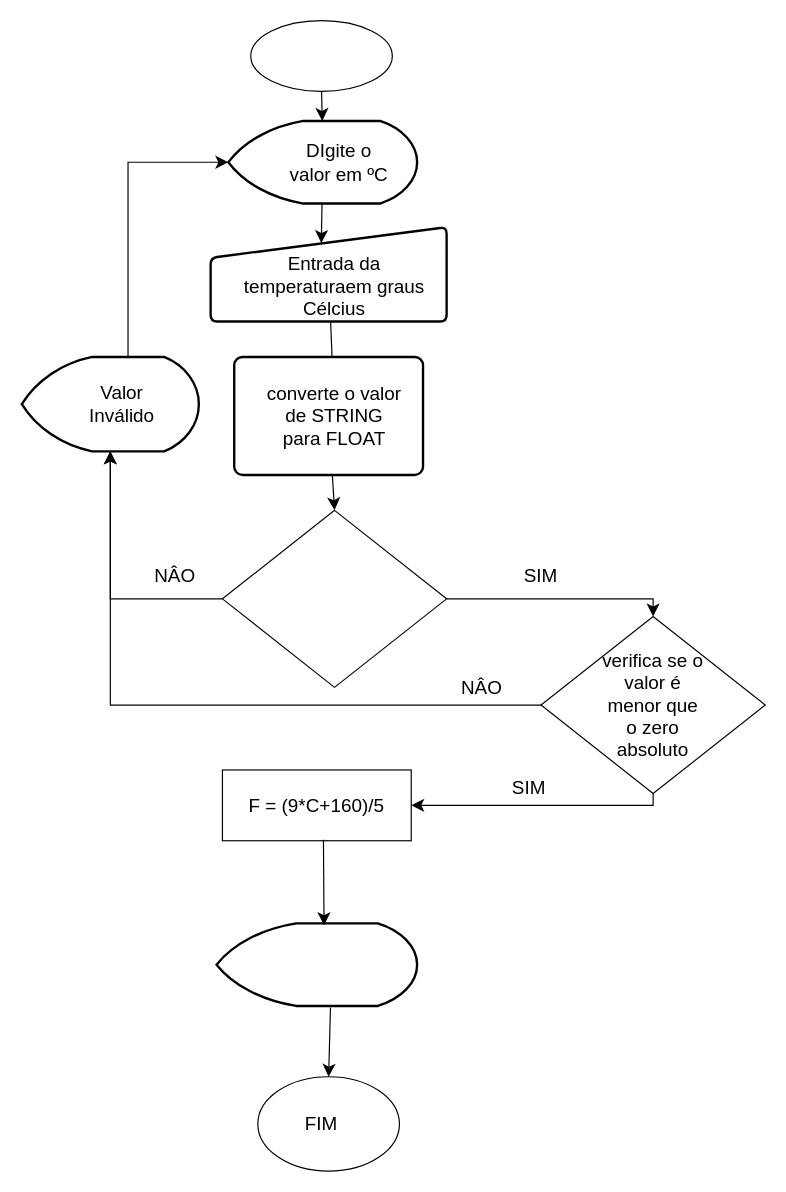
Image size: 786x1192. Some labels were removed from this diagram. Each missing label, with the box of its shape:
INICIO: (250, 19, 392, 91)
O valor informado foi convertido em float: (221, 509, 447, 687)
Valor em Fahrenheit: (215, 922, 418, 1007)
